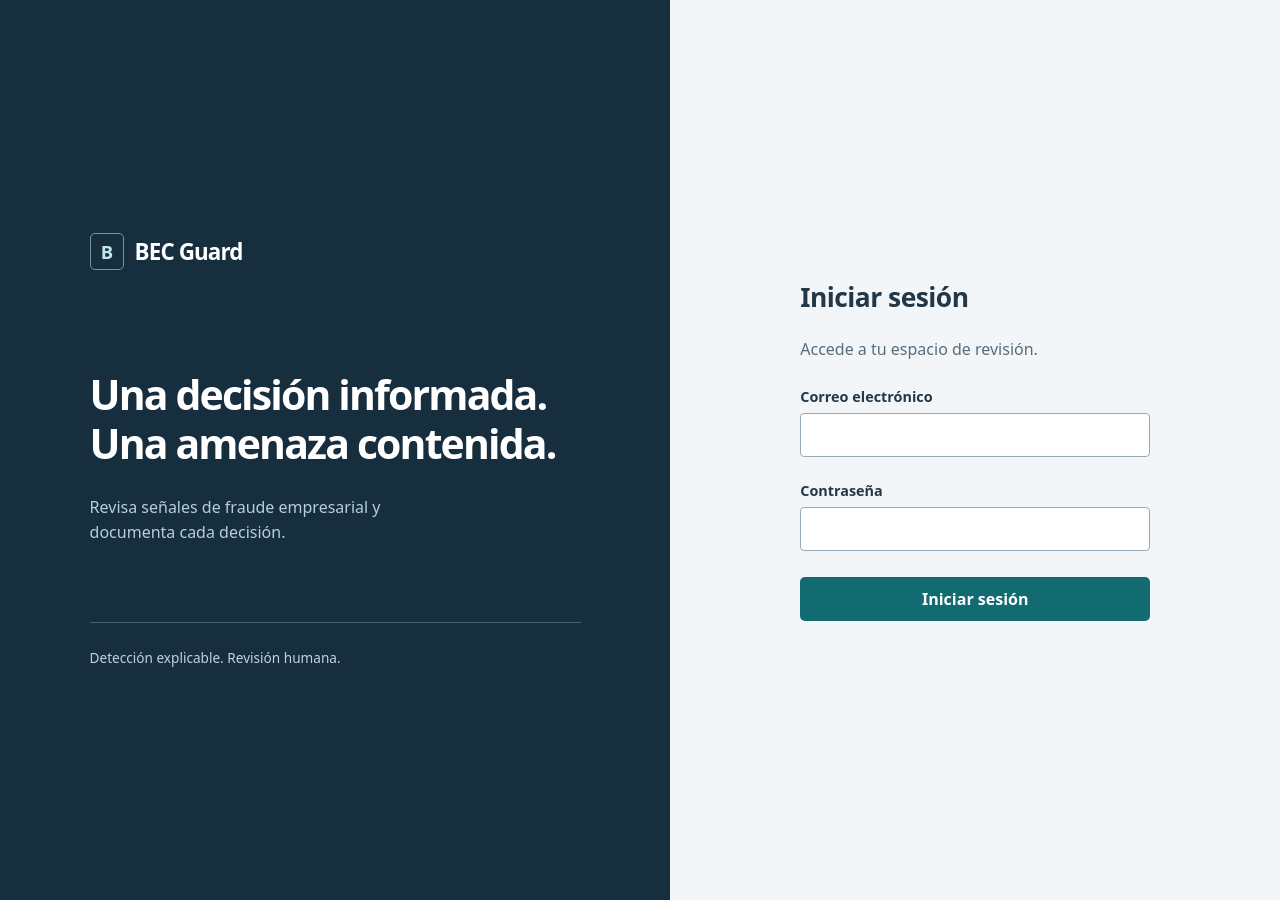
Scenario: session › shows generic invalid credentials
This screenshot has width=1280, height=900.
Type "lucia@example.com" into the field labelled "Correo electrónico" at (975, 435), box [800,413,1150,457]
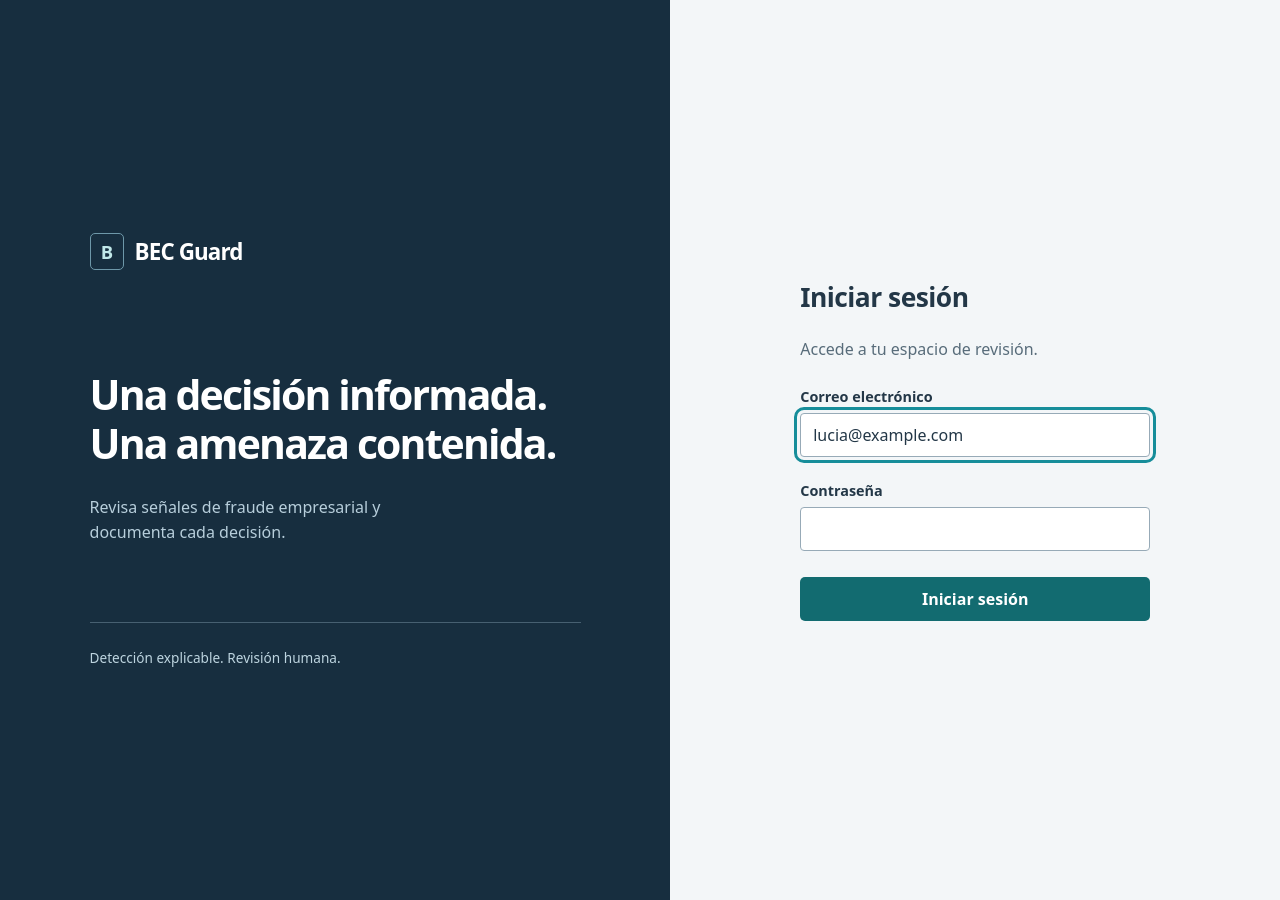
Type "wrong" into the password field labelled "Contraseña" at (975, 529), box [800,507,1150,551]
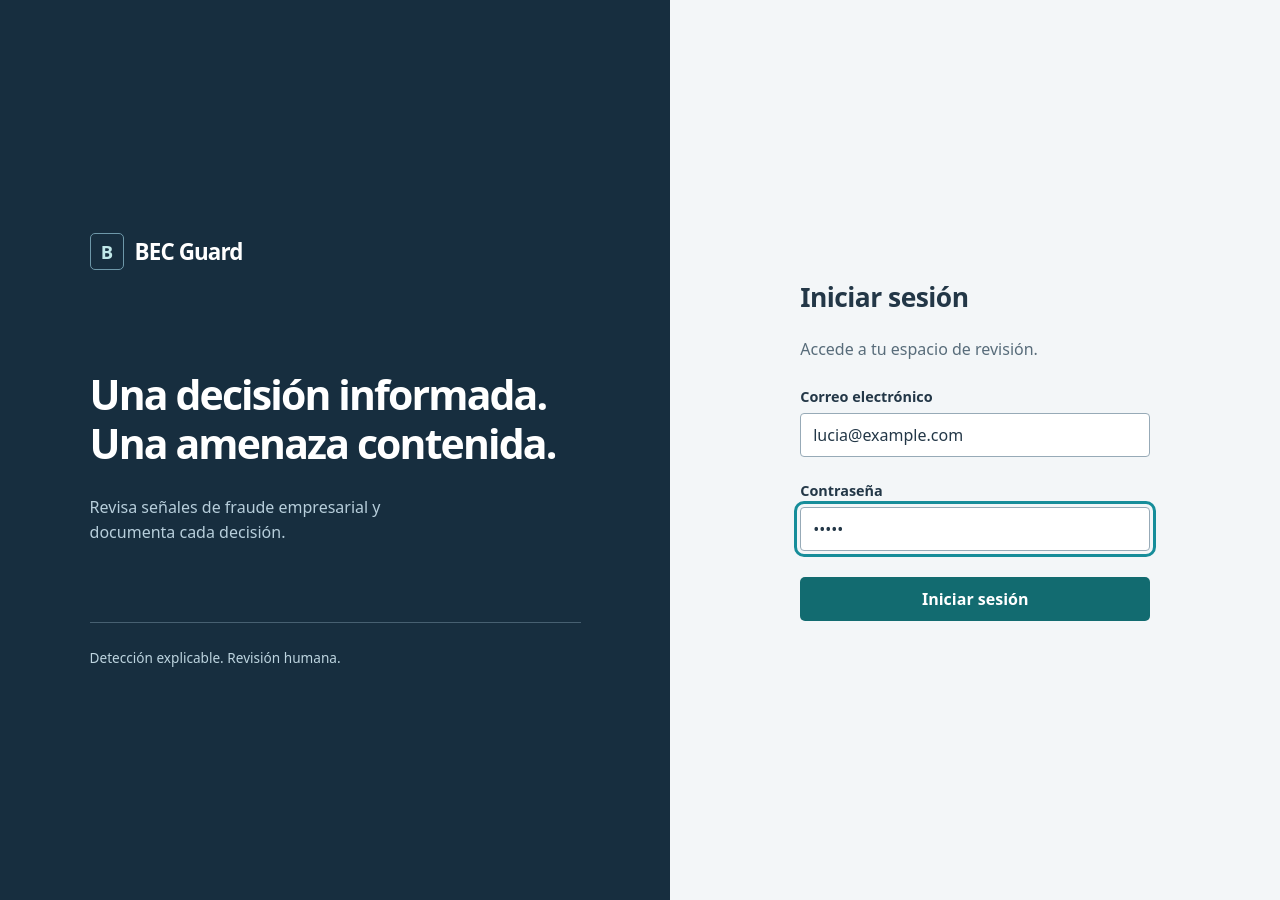
Click the button "Iniciar sesión" at (975, 599), box [800,577,1150,621]
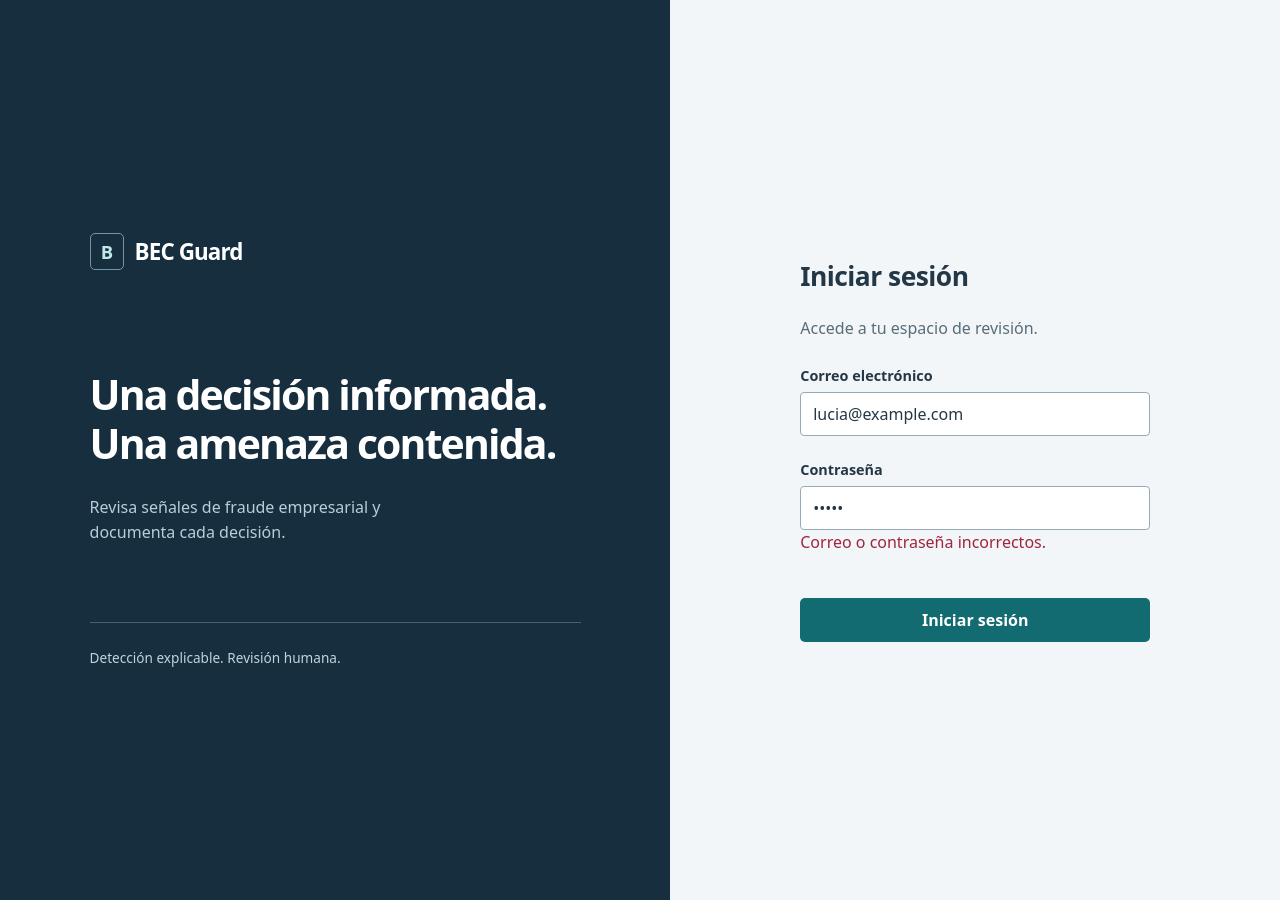
Result: the message shows "Correo o contraseña incorrectos" at [800,531,1046,553]
